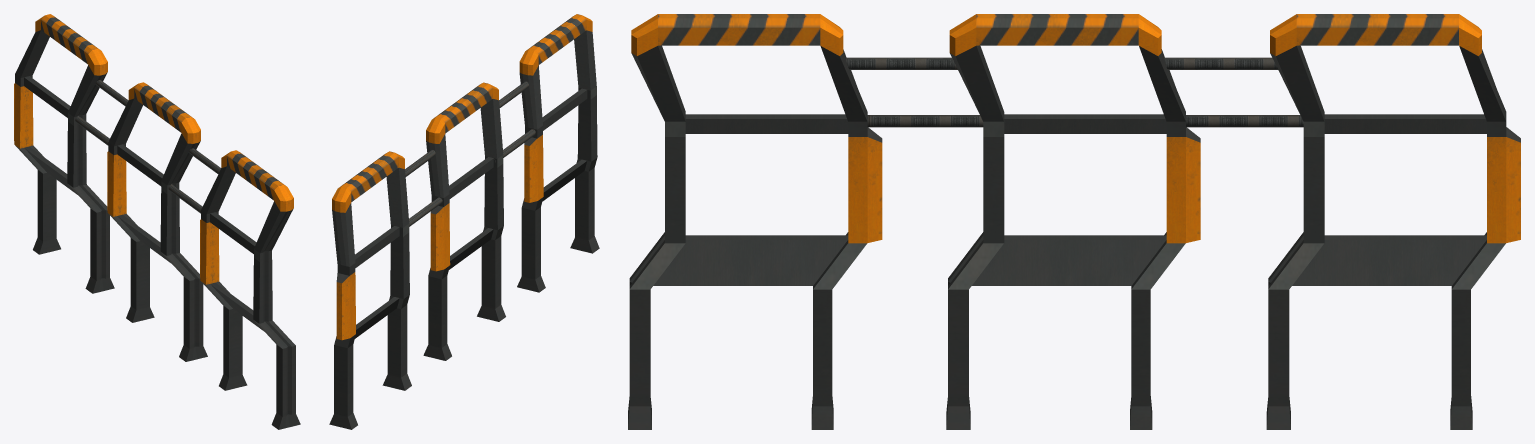
Rendered from Bord_3_pyl.FBX.
3 views of the same model, side by side, from view 1: azimuth 30°, elevation 25°; view 2: azimuth 150°, elevation 25°; view 3: azimuth 270°, elevation 25° (orthographic). The views are drawn at different scales.
Visible parts, largest first — view 1: Bord_3_pyl; view 2: Bord_3_pyl; view 3: Bord_3_pyl.
Part boxes in pixels (left/top/right/bottom): Bord_3_pyl: left=14, top=14, right=300, bottom=429; Bord_3_pyl: left=329, top=14, right=599, bottom=429; Bord_3_pyl: left=628, top=14, right=1520, bottom=429.
Size of the model in its own units: 0.2654 by 3.88 by 1.94.
